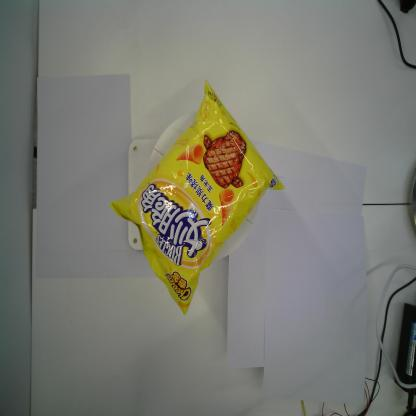Puffed Food: (106, 78, 286, 316)
